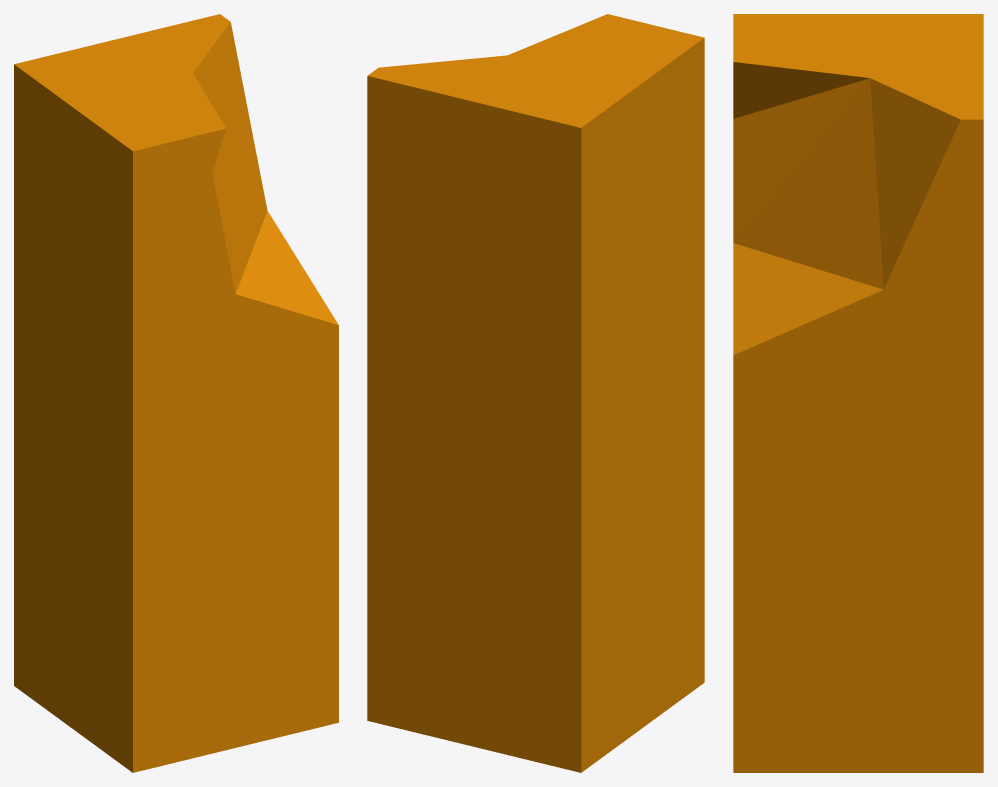
Rendered from mesh_item_sanityrest0.fbx.
3 views of the same model, side by side, from view 1: azimuth 30°, elevation 25°; view 2: azimuth 150°, elevation 25°; view 3: azimuth 270°, elevation 25° (orthographic). The views are drawn at different scales.
Parts seen in each view (by area): view 1: item_sanityrest0; view 2: item_sanityrest0; view 3: item_sanityrest0.
Boxes of the visible parts, x1,y1,x2,y2 form: item_sanityrest0: (14,14,338,772); item_sanityrest0: (367,14,704,772); item_sanityrest0: (733,14,983,772).
Size of the model in its own units: 5.26 by 15.16 by 5.26.
